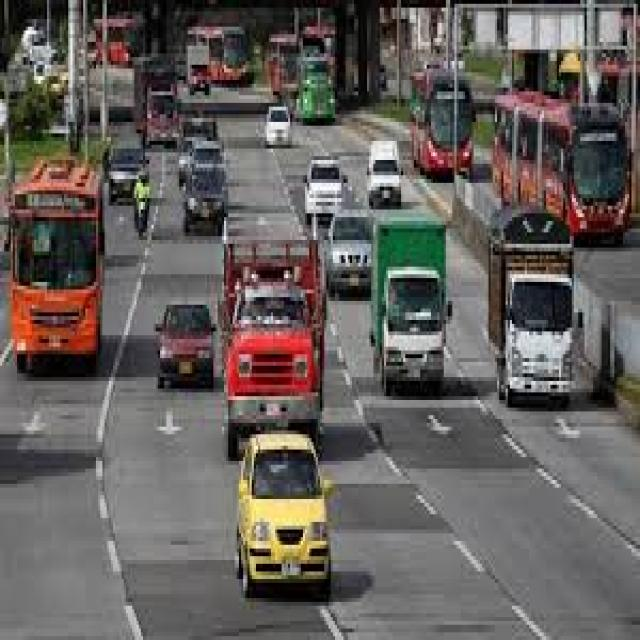BUS: (495, 97, 633, 246), (5, 177, 104, 381), (411, 72, 473, 180)
TRUCK: (226, 214, 324, 436), (487, 239, 572, 408), (377, 215, 448, 394)
